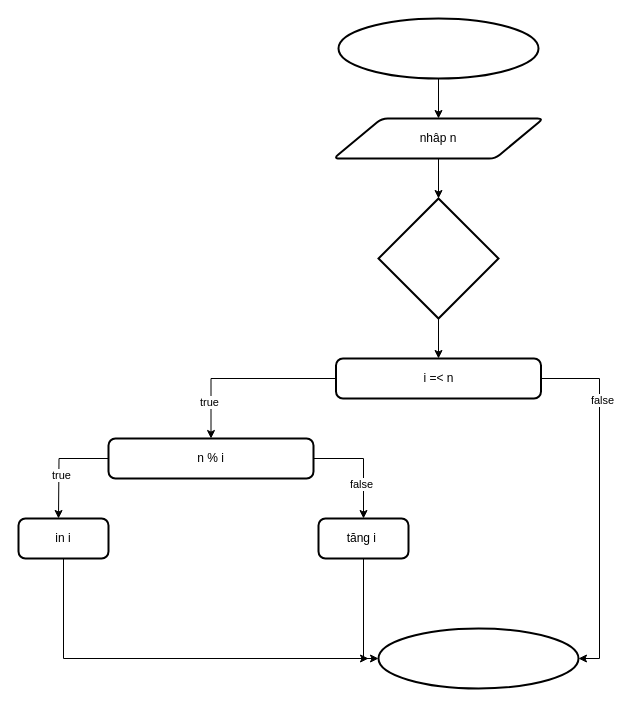
This 631x706 diagram has some shape labels left out. The shapes that lost their labels are listed below. From the top down, each one's centre as x and y in pixels, then its label:
point (438, 48): Start
point (438, 258): i = 1
point (478, 658): End
